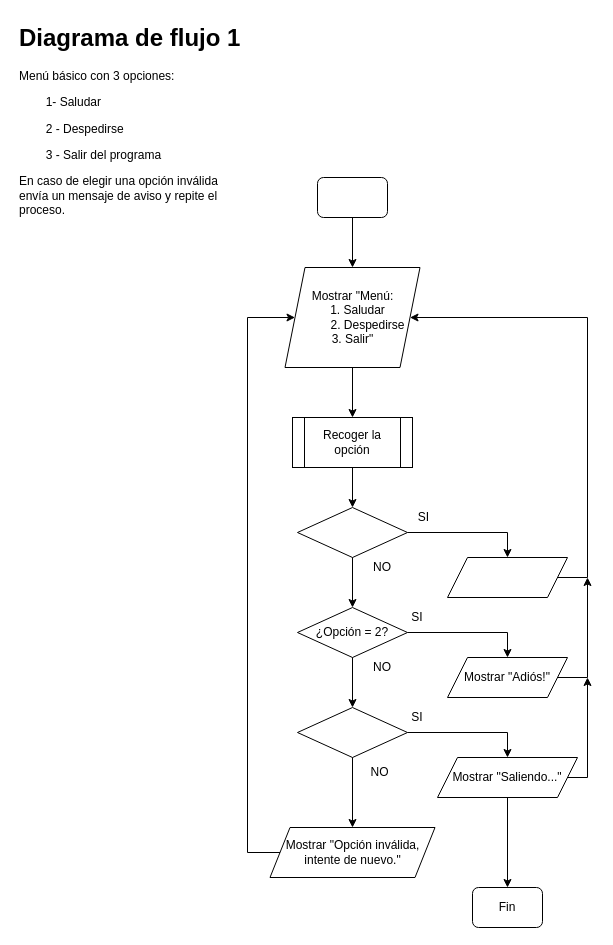
Image size: 613x945. Some labels were removed from this diagram. Each missing label, with the centre of its shape:
Inicio: the point at 352,197
Mostrar "Hola!": the point at 507,577
¿Opción = 1?: the point at 352,532
¿Opción = 3?: the point at 352,732
